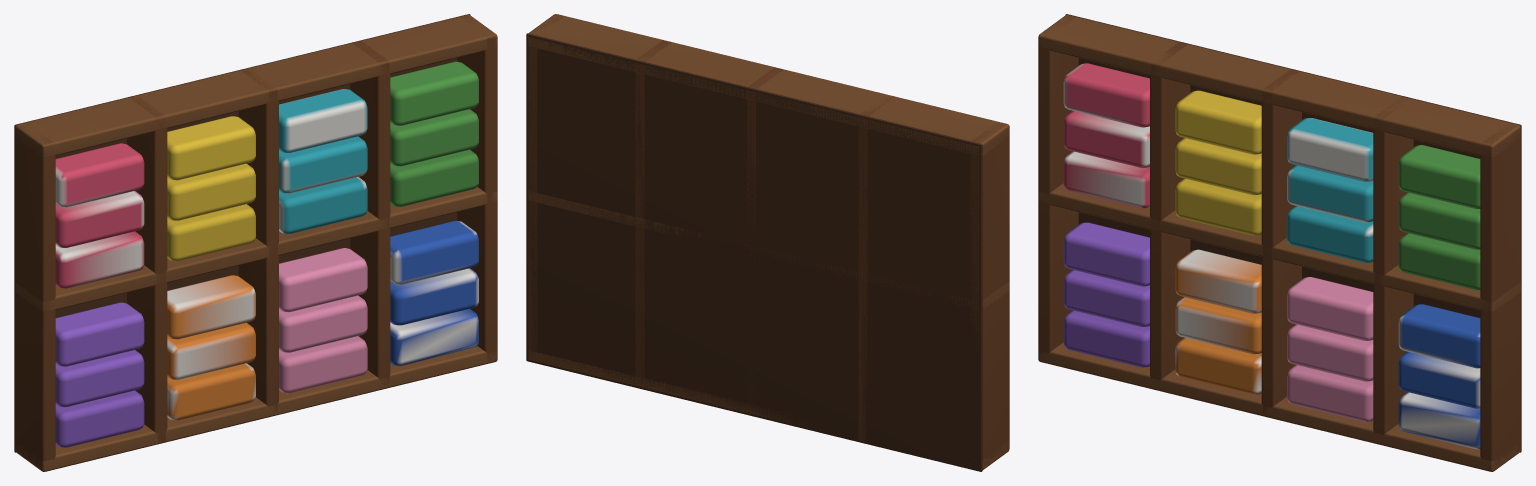
Rendered from furn_fabric_shelf.glb.
3 renders of one model, left to right at view 1: azimuth 30°, elevation 25°; view 2: azimuth 150°, elevation 25°; view 3: azimuth 330°, elevation 25°, orthographic.
Parts seen in each view (by area): view 1: furn_fabric_shelf_main; view 2: furn_fabric_shelf_main; view 3: furn_fabric_shelf_main.
Boxes of the visible parts, left/top/right/bottom form: furn_fabric_shelf_main: left=14, top=14, right=497, bottom=471; furn_fabric_shelf_main: left=526, top=14, right=1009, bottom=471; furn_fabric_shelf_main: left=1038, top=14, right=1521, bottom=471.
Bounding box in the file's own units: 2 × 1.38 × 0.22.
